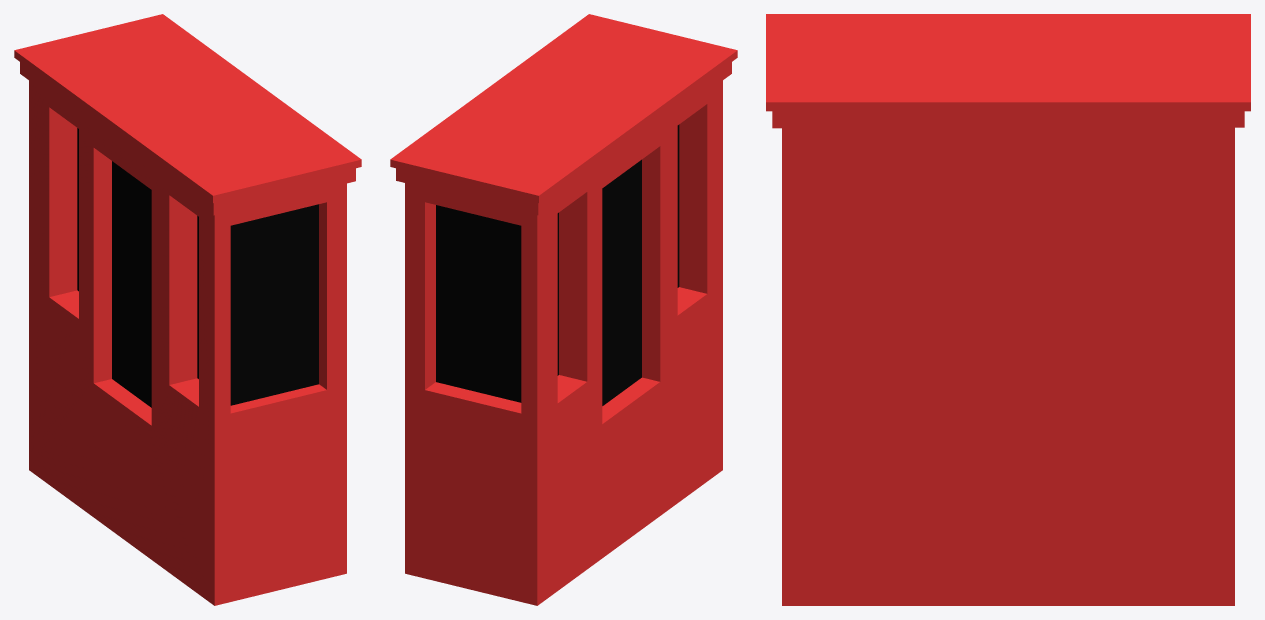
File: House2LOD1.FBX
3 renders of one model, left to right at view 1: azimuth 30°, elevation 25°; view 2: azimuth 150°, elevation 25°; view 3: azimuth 270°, elevation 25°, orthographic. The views are drawn at different scales.
Visible parts, largest first — view 1: House2-LOD1; view 2: House2-LOD1; view 3: House2-LOD1.
Boxes of the visible parts, box(x1,y1,x2,y2) form: House2-LOD1: box(14, 14, 361, 605); House2-LOD1: box(390, 14, 737, 605); House2-LOD1: box(766, 14, 1250, 605).
Size of the model in its own units: 78.47 by 210 by 182.
